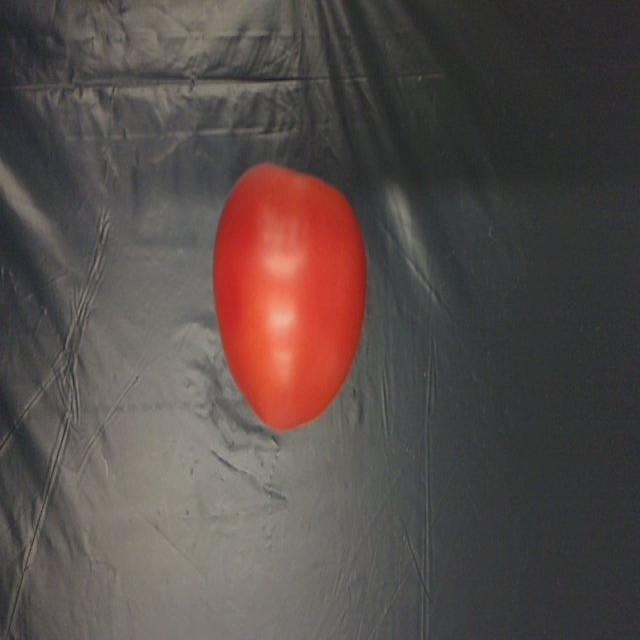kirmizi: (216, 150, 366, 434)
